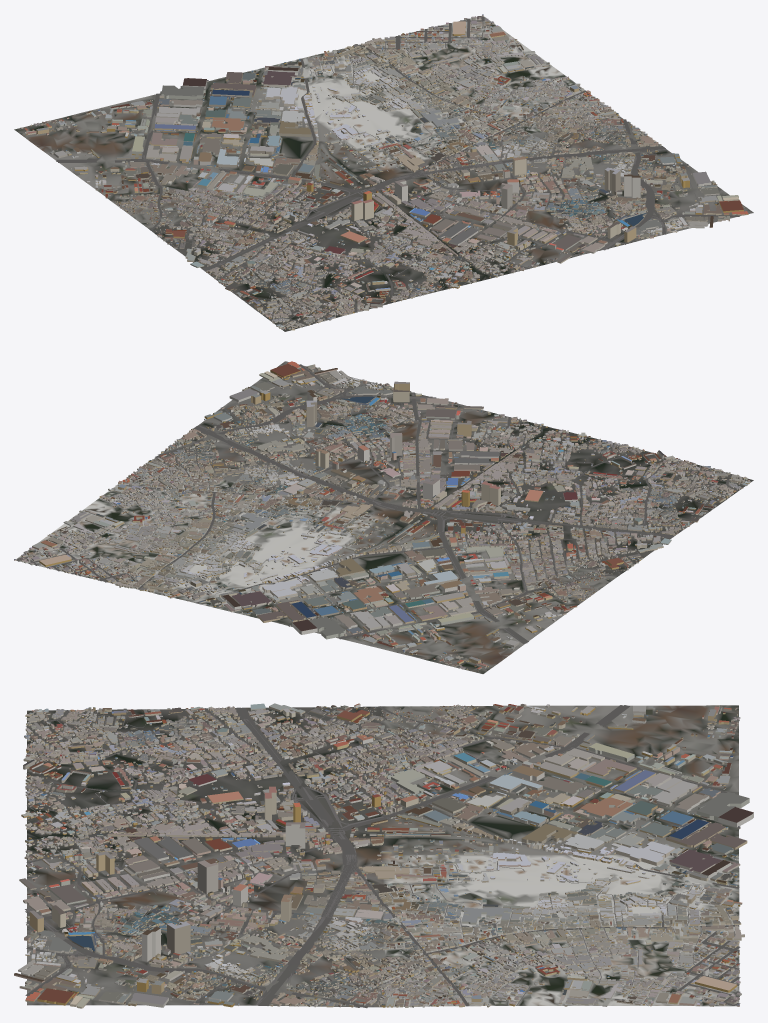
3 views of the same model, one above another, from view 1: azimuth 30°, elevation 25°; view 2: azimuth 150°, elevation 25°; view 3: azimuth 270°, elevation 25° (orthographic). The views are drawn at different scales.
Parts seen in each view (by area): view 1: buildings, ground, roads; view 2: buildings, ground, roads; view 3: buildings, ground, roads.
Part boxes in pixels (x1,y1,x2,y2): buildings: (20,14,748,330); ground: (14,16,753,331); roads: (56,16,752,326); buildings: (14,361,750,671); ground: (16,361,753,673); roads: (17,361,746,643); buildings: (14,703,753,1008); ground: (27,705,739,1007); roads: (25,705,740,1008).
Size of the model in its own units: 2856 by 146 by 2911.
